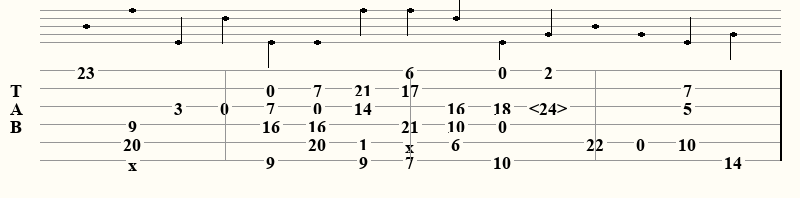0: (220, 98, 233, 114), (266, 80, 279, 96), (313, 98, 326, 114), (498, 116, 511, 132), (498, 62, 511, 78), (636, 134, 649, 150)
1: (359, 134, 372, 150)
10: (447, 116, 469, 132), (493, 152, 515, 168), (678, 134, 700, 150)
14: (354, 98, 376, 114), (724, 152, 746, 168)
16: (262, 116, 284, 132), (308, 116, 330, 132), (447, 98, 469, 114)
17: (401, 80, 423, 96)
18: (493, 98, 515, 114)
2: (544, 62, 557, 78)
20: (123, 134, 145, 150), (308, 134, 330, 150)
21: (354, 80, 376, 96), (401, 116, 423, 132)
22: (586, 134, 608, 150)
23: (77, 62, 99, 78)
3: (174, 98, 187, 114)
5: (683, 98, 696, 114)
6: (405, 62, 418, 78), (451, 134, 464, 150)
7: (266, 98, 279, 114), (313, 80, 326, 96), (405, 152, 418, 168), (683, 80, 696, 96)
9: (128, 116, 141, 132), (266, 152, 279, 168), (359, 152, 372, 168)
harmonic: (529, 98, 571, 114)
x: (128, 154, 141, 166), (405, 136, 418, 148)
